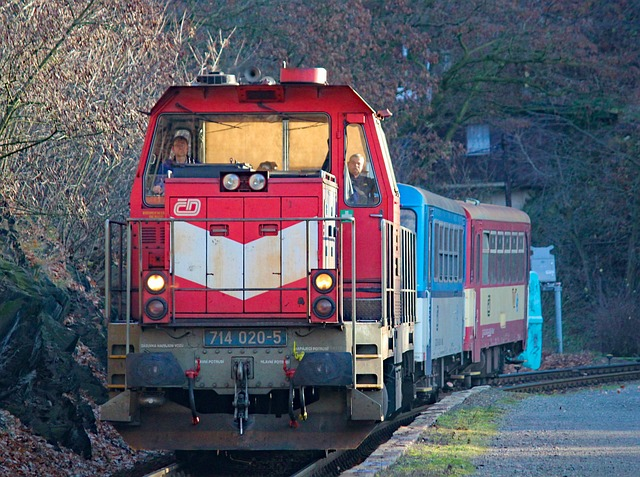train1: (94, 60, 533, 462)
